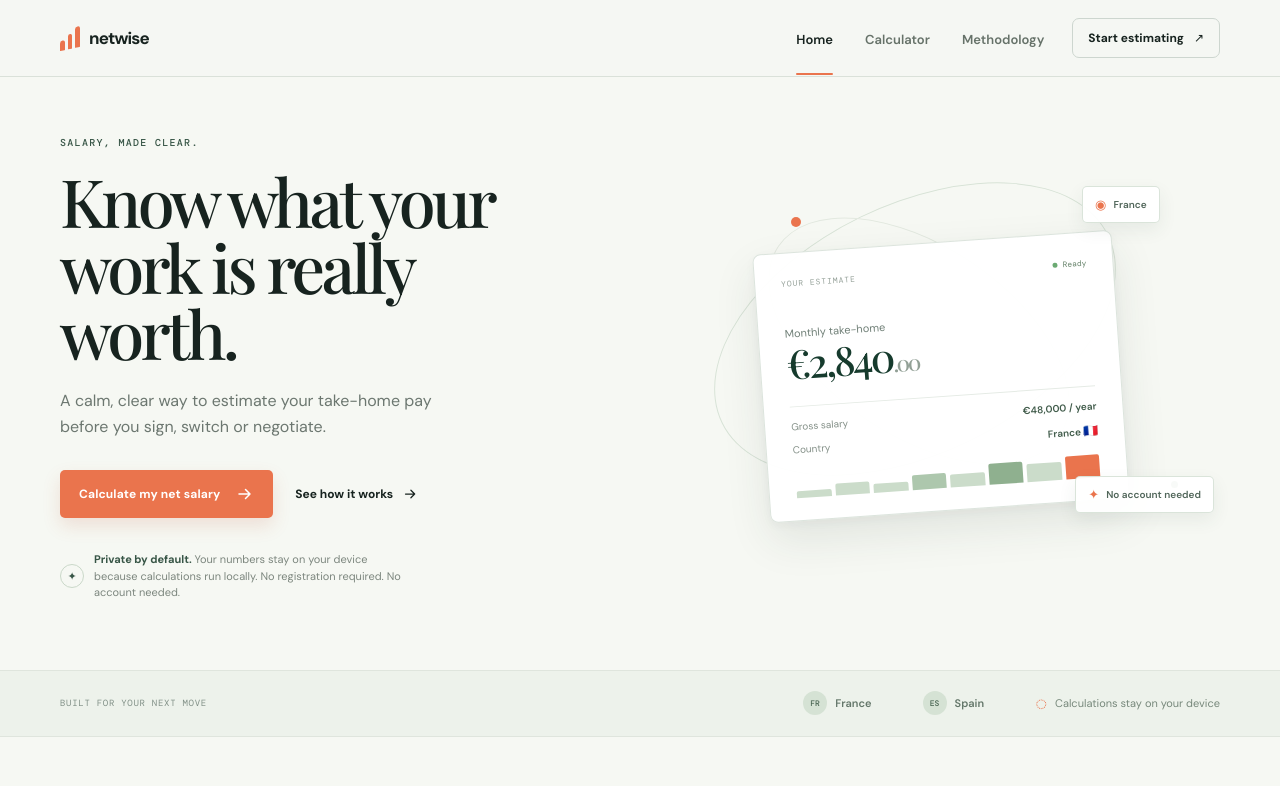
Test: app navigation › navigates through the primary CTA and returns home
Click the link "Calculate my net salary" at (167, 494), box 60,470 -> 273,518
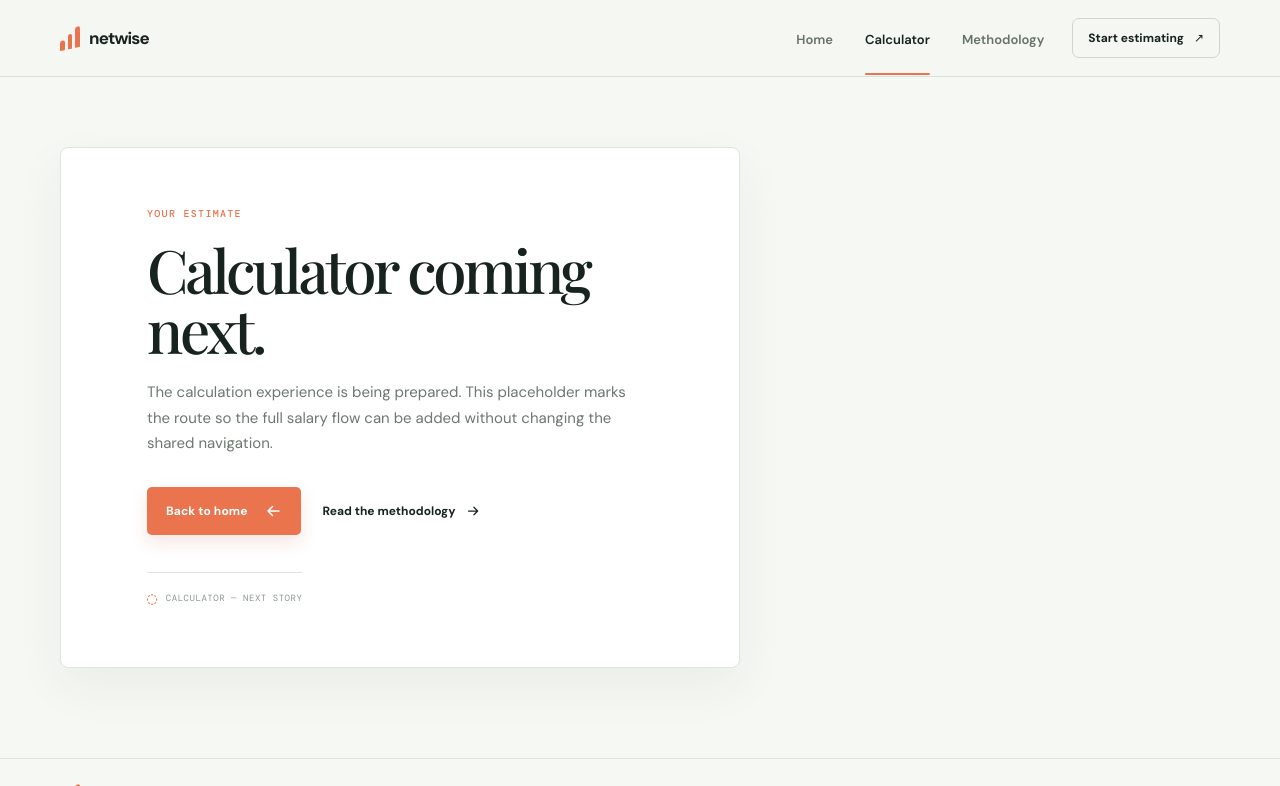
Check: the heading "Calculator coming next." is shown, box 147,239 -> 653,359
Click the link "Back to home" at (224, 510), box 147,486 -> 301,534
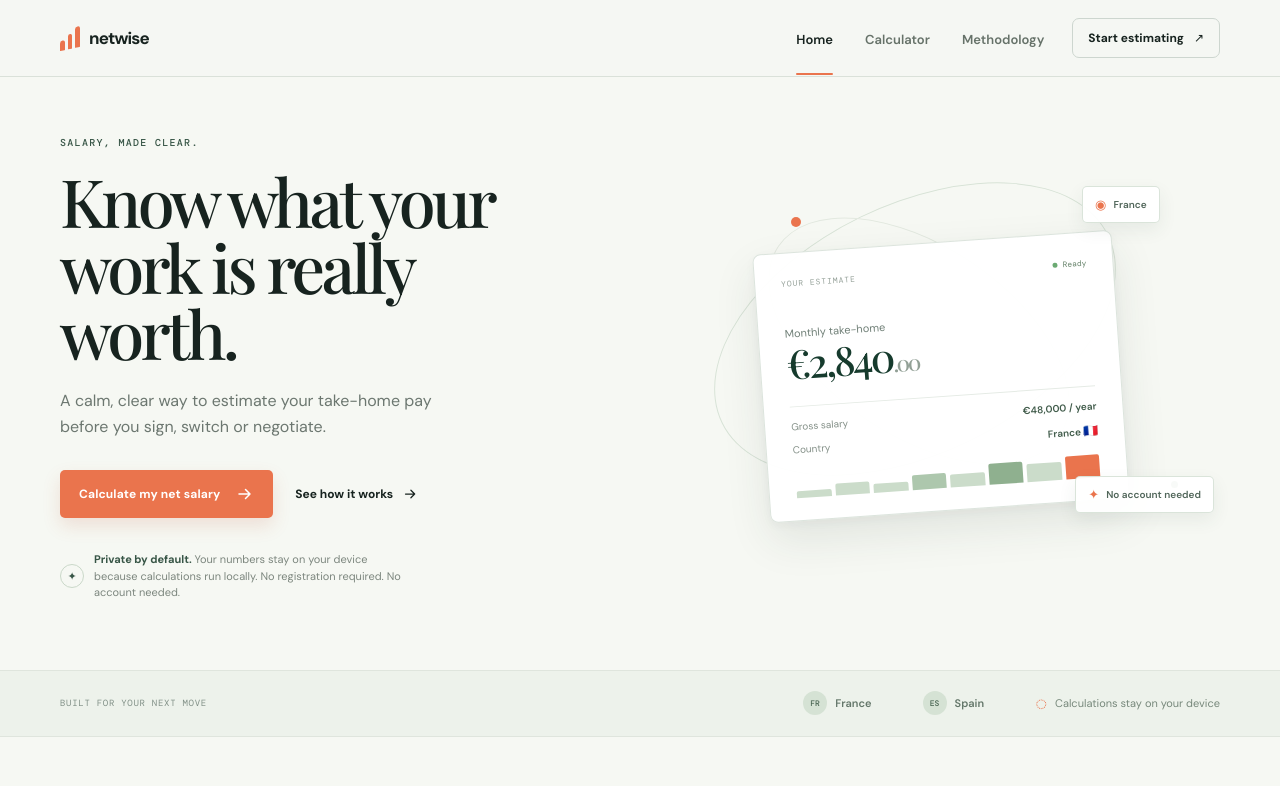
Check: the heading "Know what your work is really worth." is shown, box 60,156 -> 492,377
